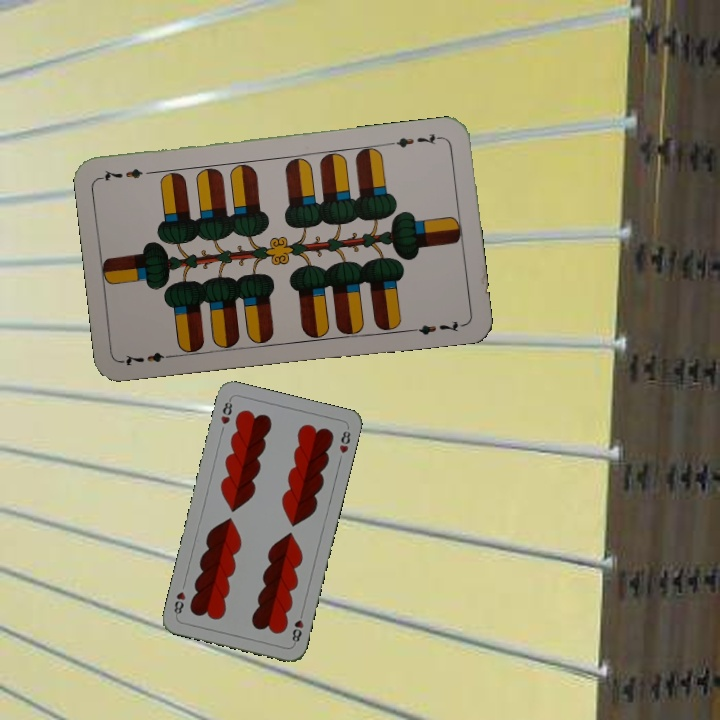E7: (386, 129, 445, 150), (119, 348, 178, 369)
H8: (288, 607, 306, 647), (217, 395, 235, 427)
